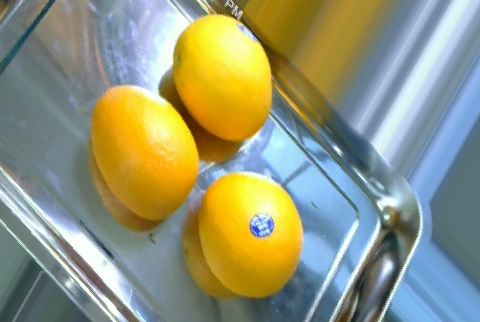Orange: (90, 84, 199, 220), (197, 171, 304, 298), (172, 15, 274, 143)
